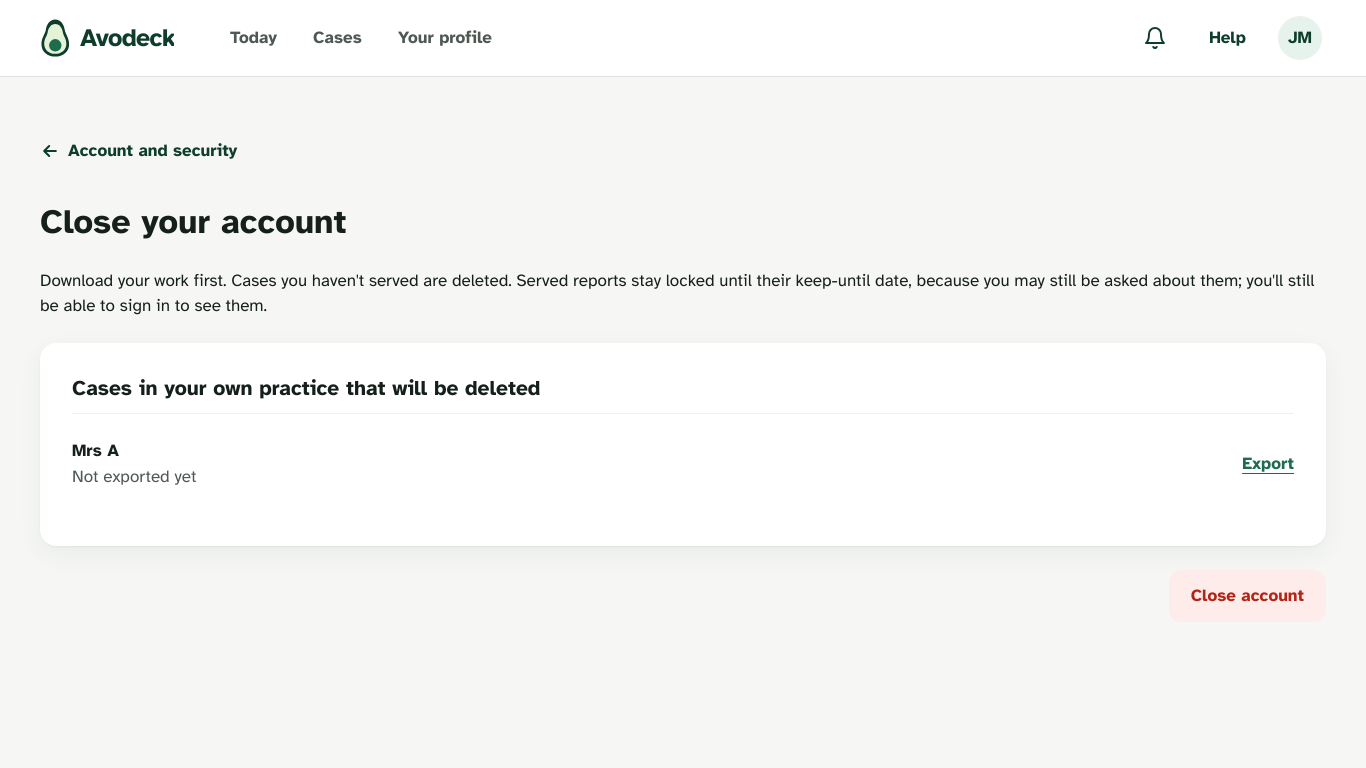
Test: when the server says export first, the named cases are marked
What coordinates should you click on to do the following:
click the button "Close account"
I would click on:
 (1247, 596)
Its box is [1169,570,1326,622].
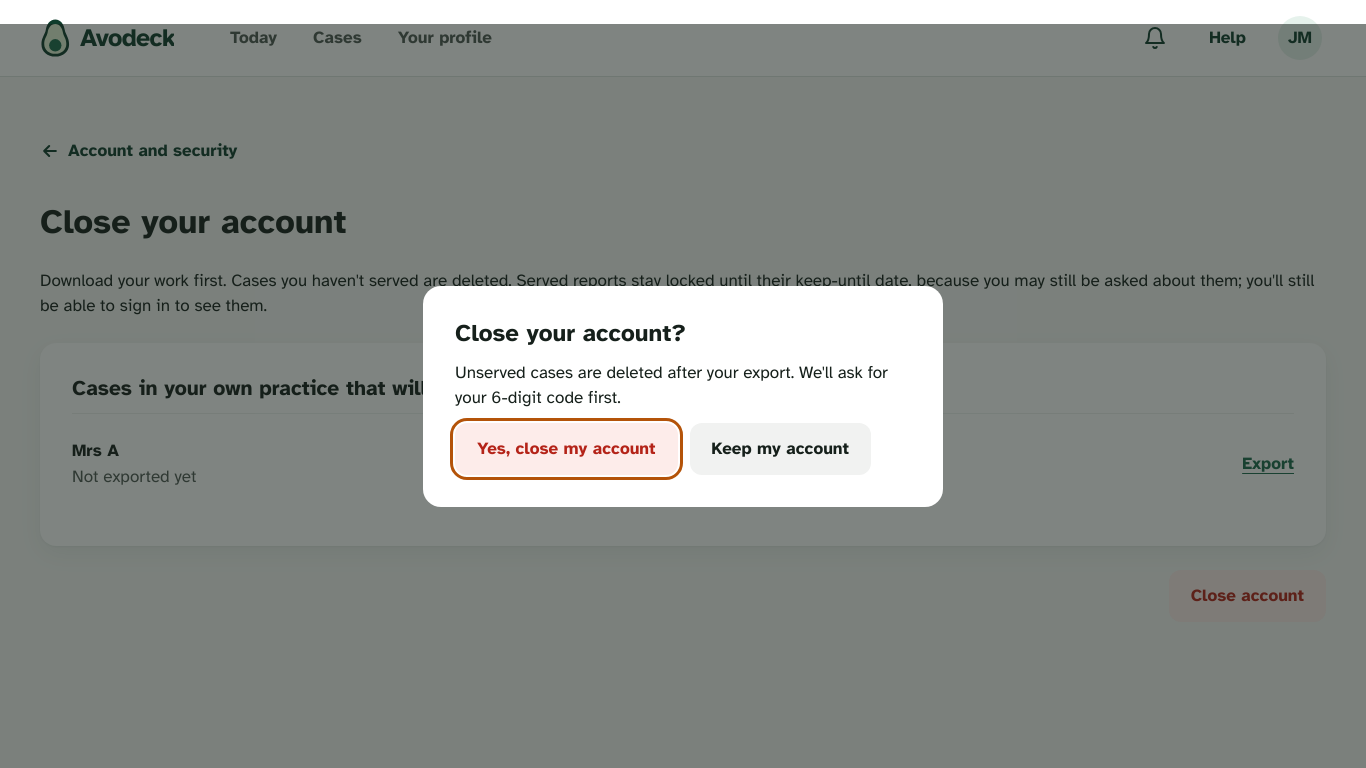
What coordinates should you click on to do the following:
click the button "Yes, close my account"
I would click on:
 (566, 448)
Its box is [455,422,678,474].
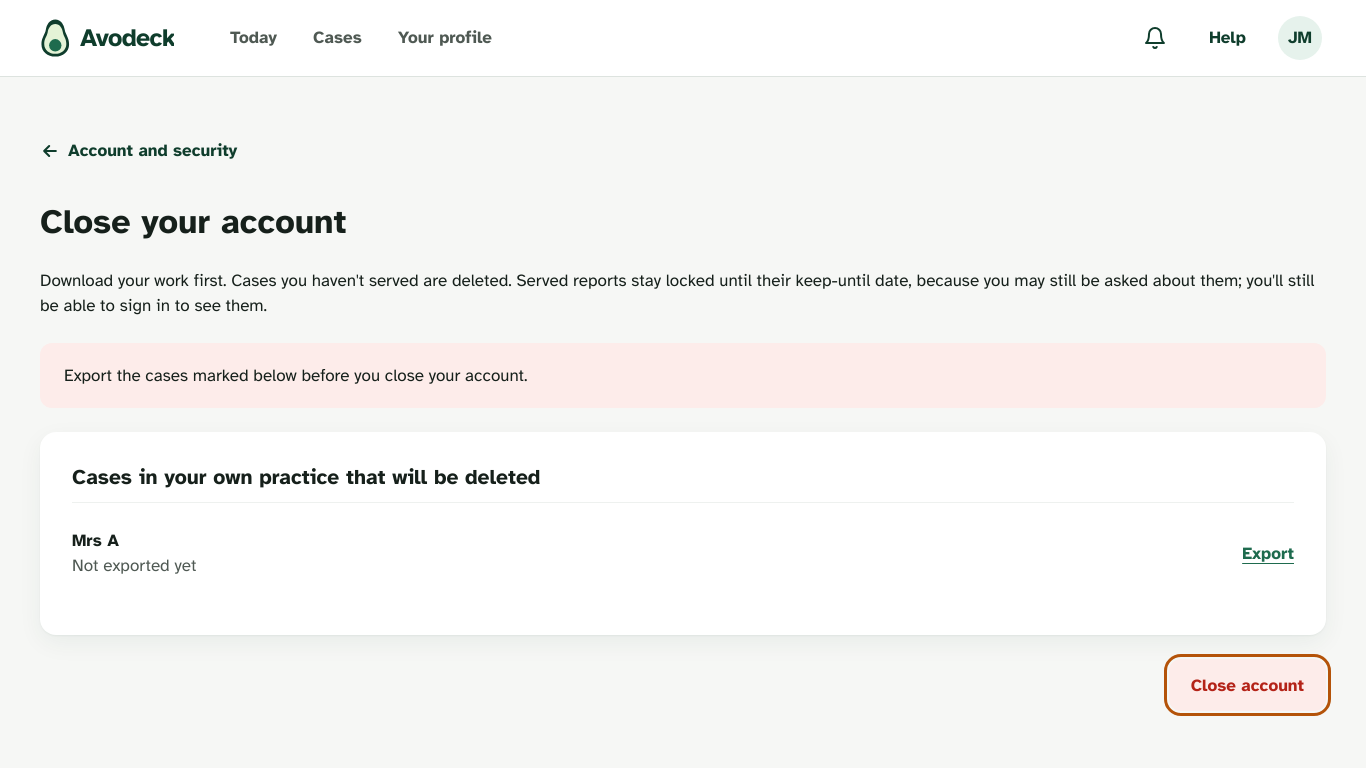
Expected: the text "Not exported yet" is shown, [72,555,196,576]
Result: the message shows "Export the cases marked below" at [64,364,528,386]
